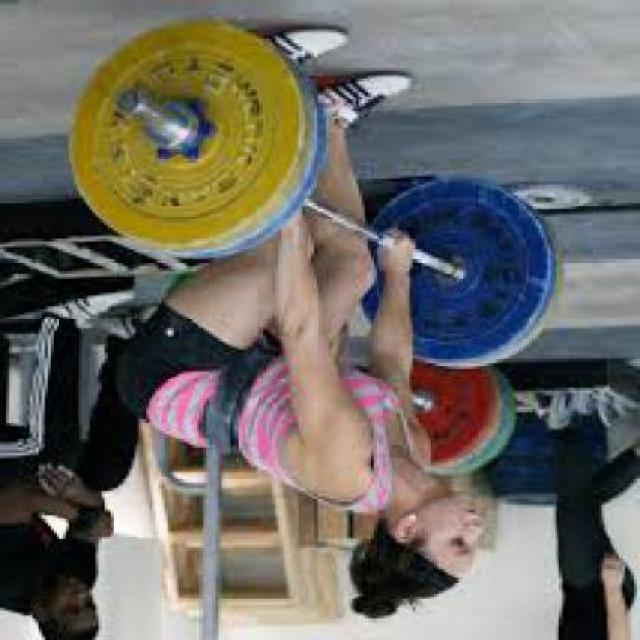Barbell: (106, 78, 151, 118)
